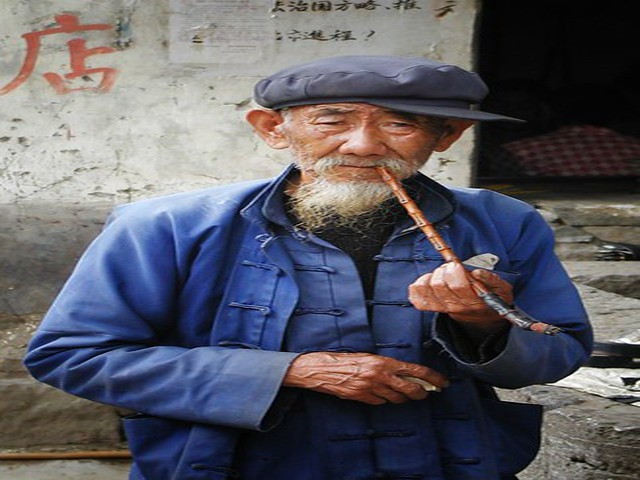Person: (50, 51, 602, 464)
